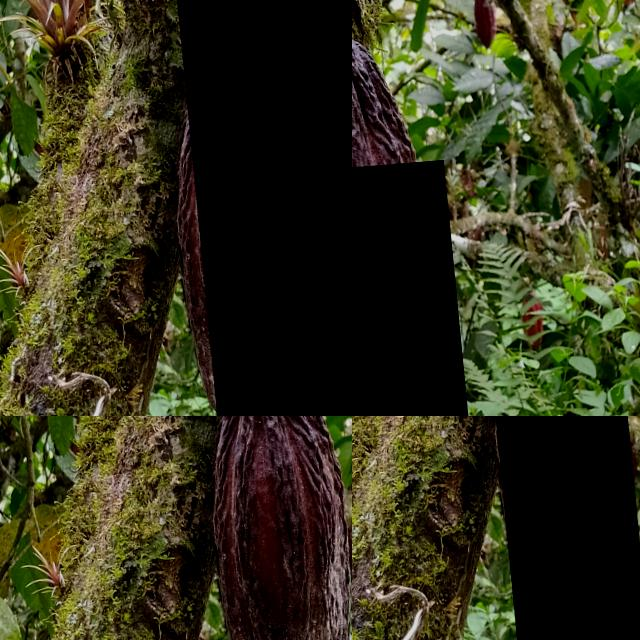Fitoftora: (168, 0, 352, 416), (476, 416, 640, 640), (220, 476, 352, 640), (395, 180, 438, 275)
Sana: (352, 167, 460, 416)
